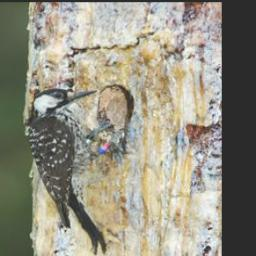Woodpecker: (26, 88, 125, 254)
